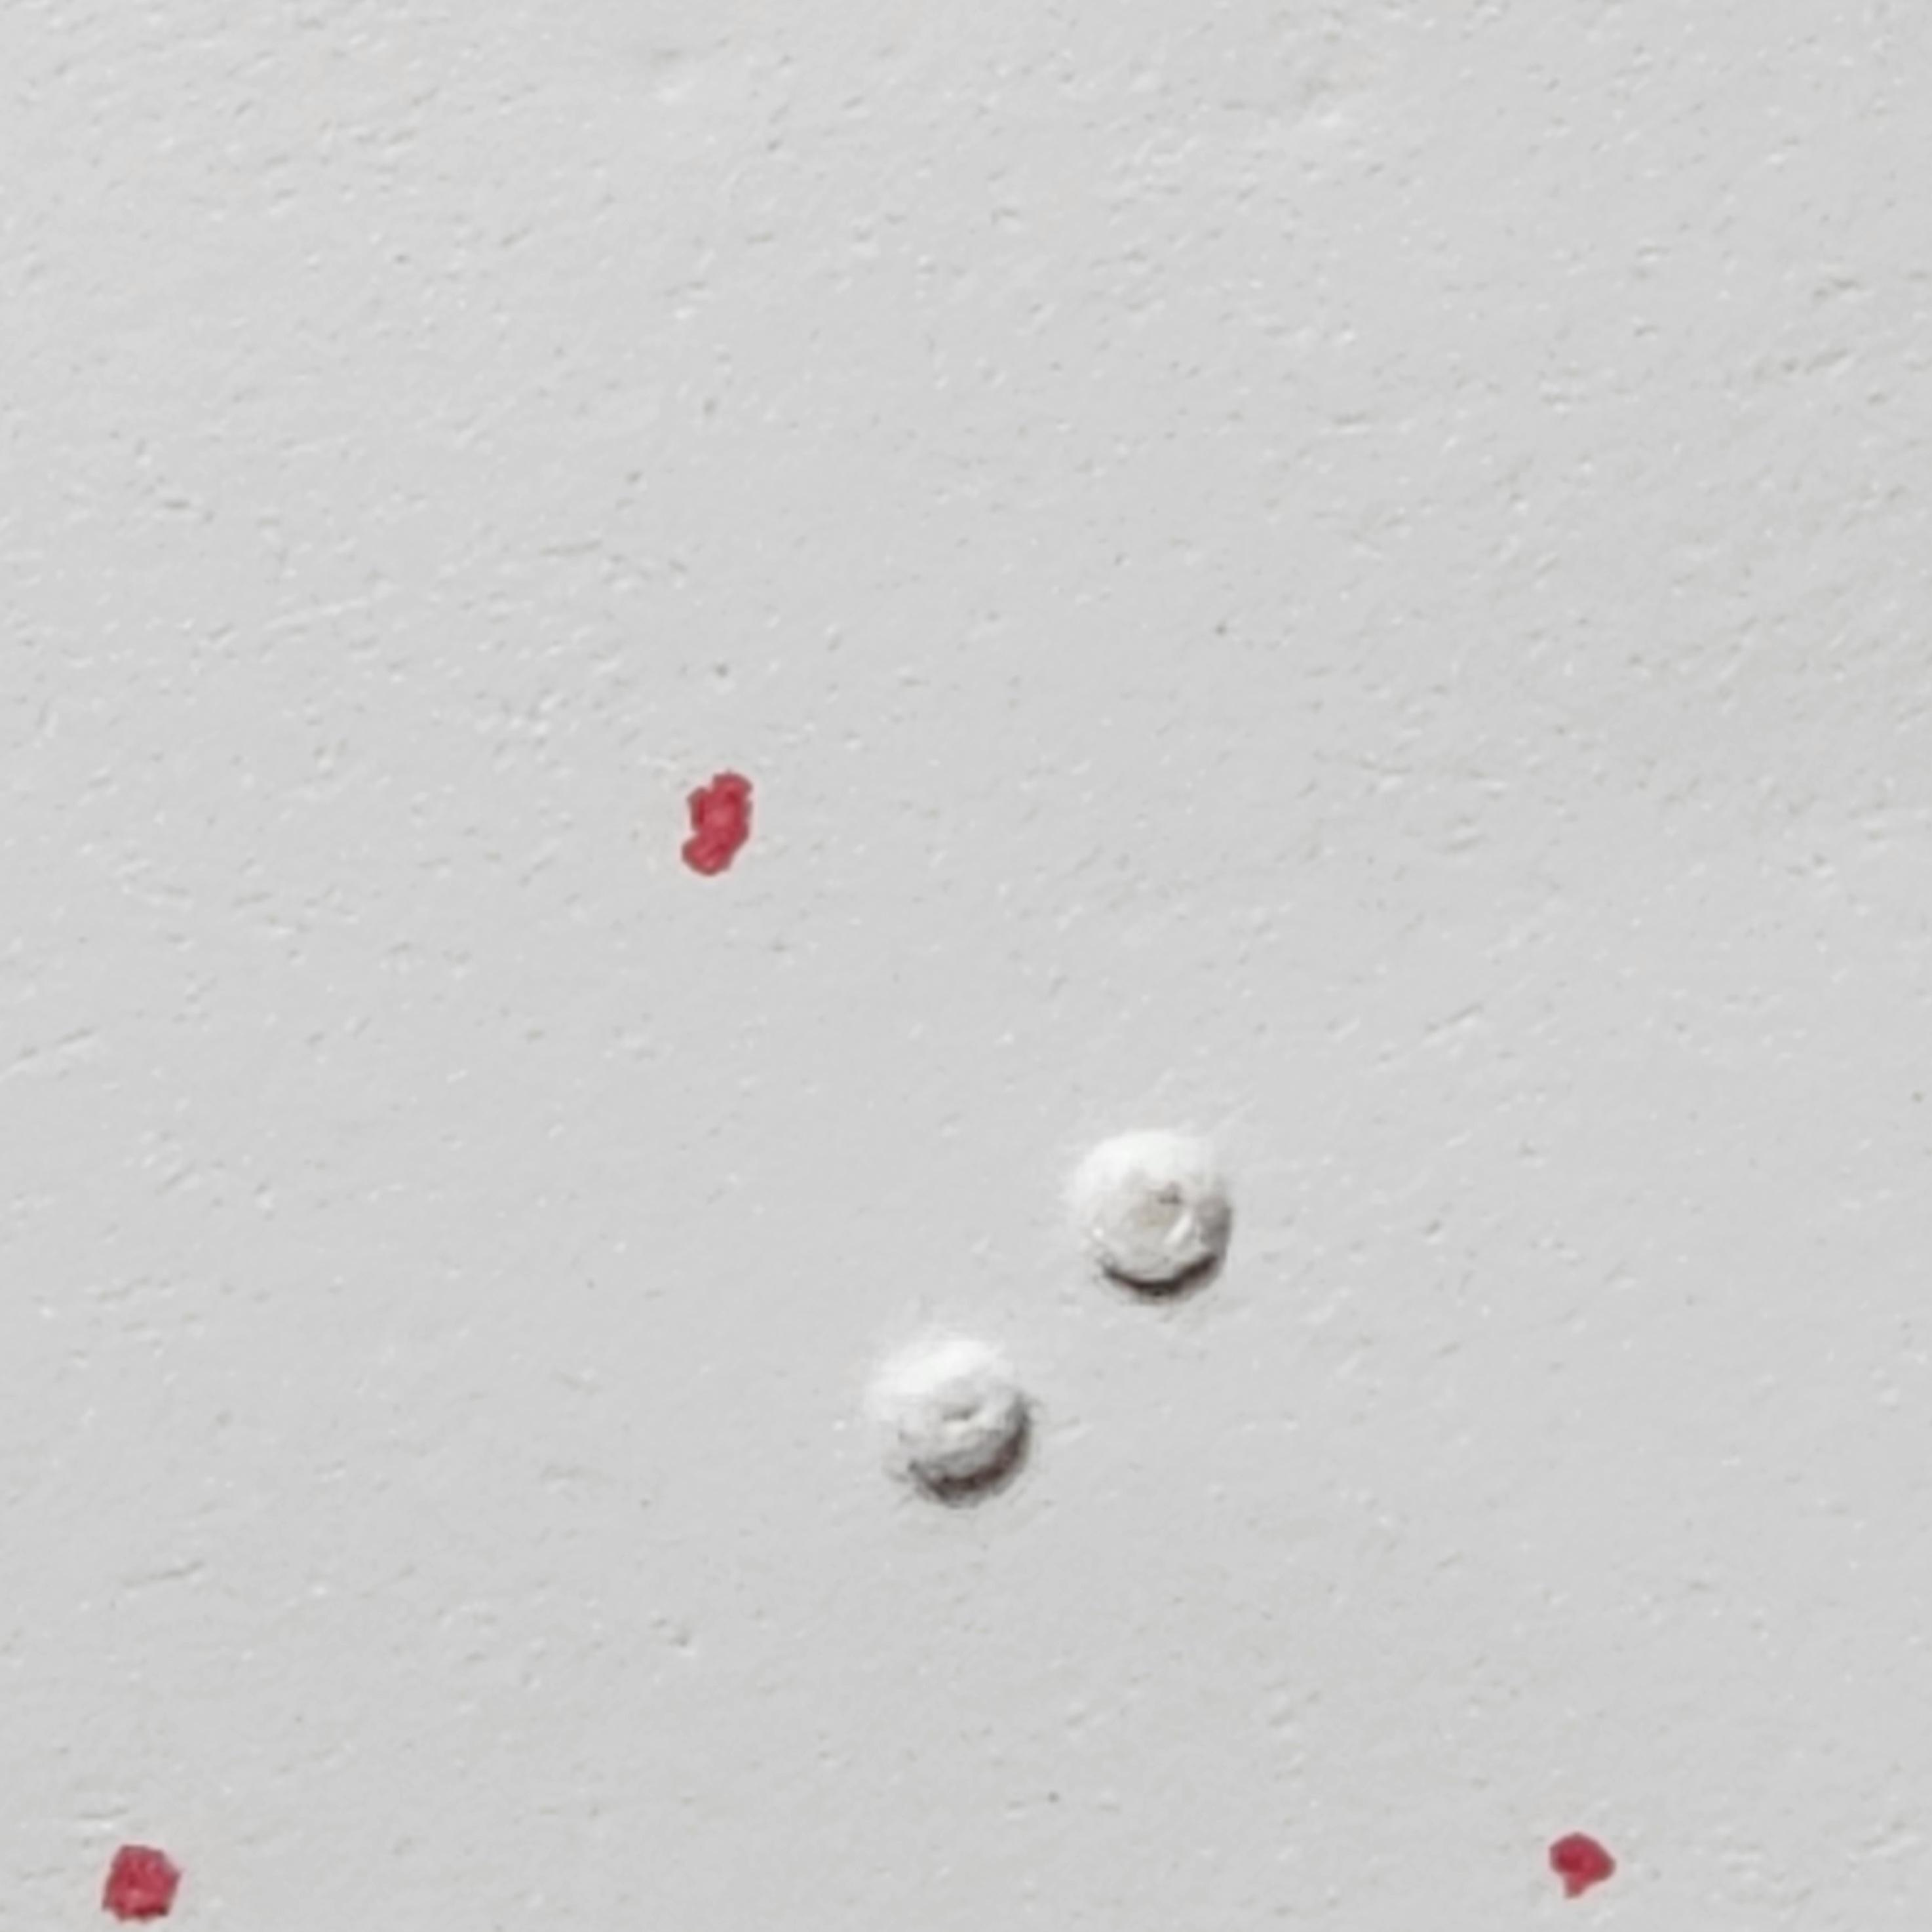letter_i: (879, 1122, 1240, 1753)
